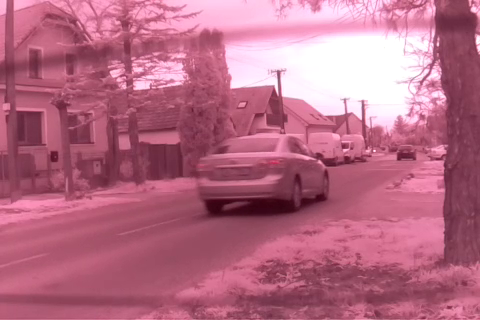car: (193, 131, 332, 215), (394, 143, 419, 162)
